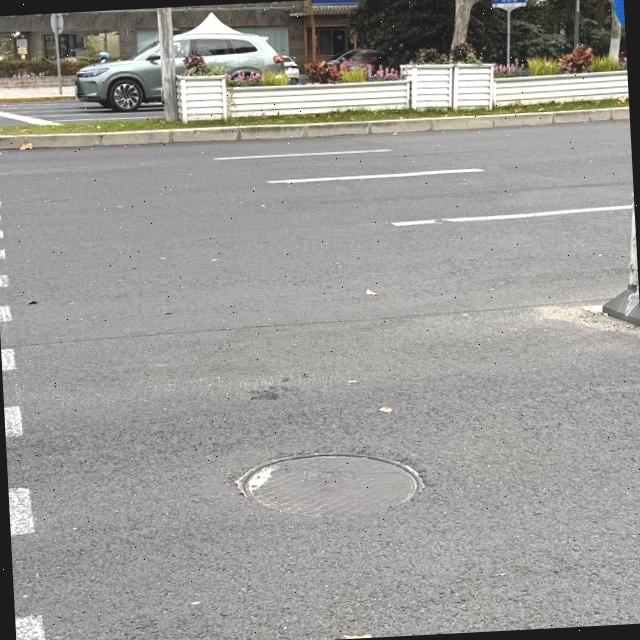curb: (0, 107, 629, 150), (0, 94, 77, 104)
